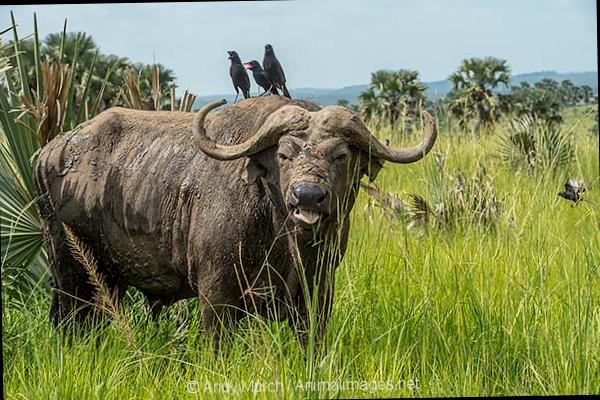Buffalo: (17, 44, 472, 364)
